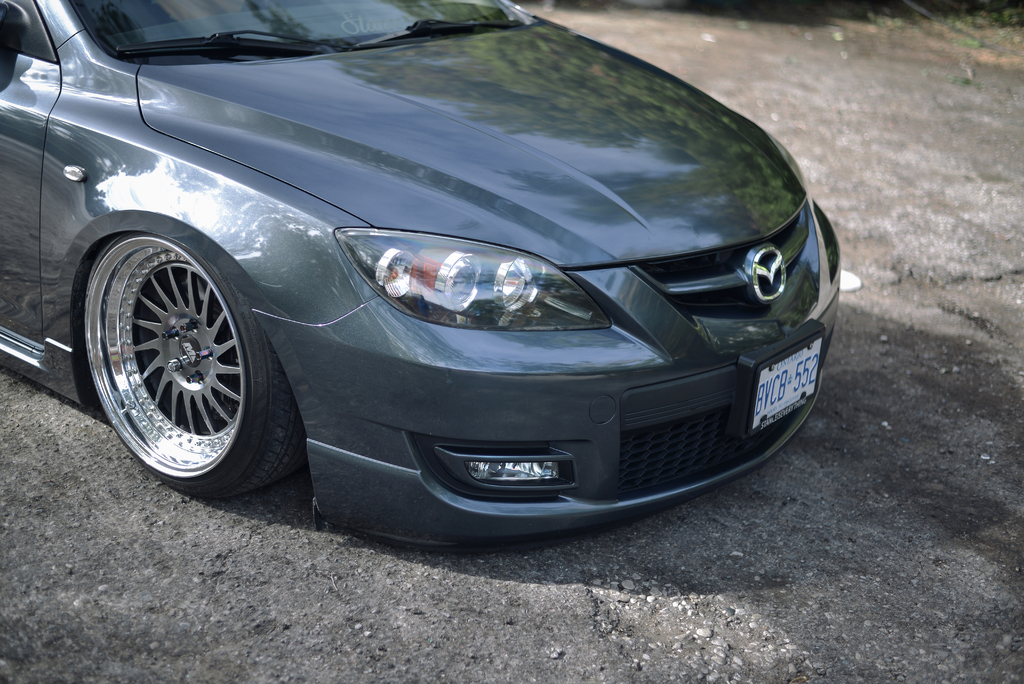car: (1, 1, 850, 554)
